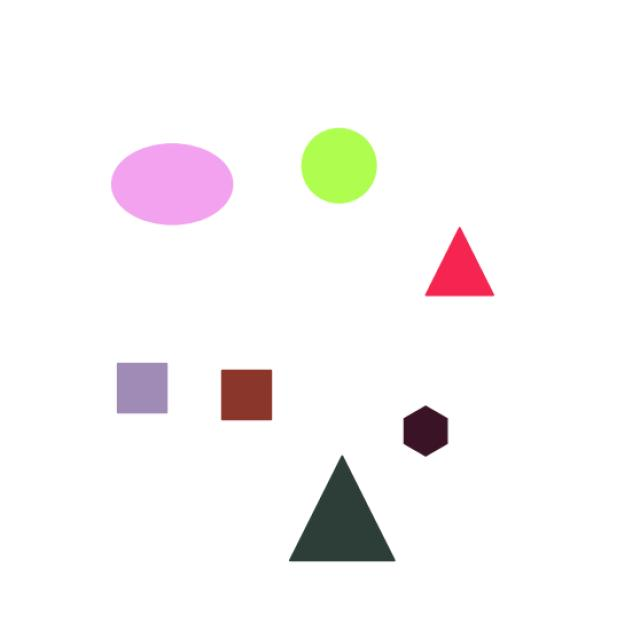Circle: (286, 120, 398, 218)
Hexagon: (386, 388, 460, 465)
Oval: (98, 120, 236, 235)
Triangle: (275, 437, 416, 578), (412, 219, 504, 311)
square: (210, 354, 290, 435), (104, 348, 180, 428)
